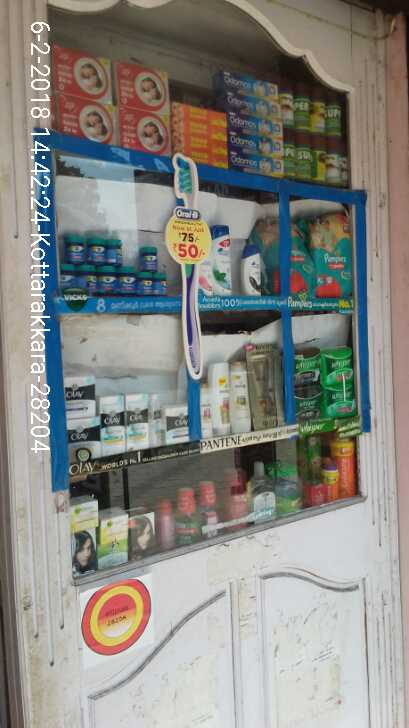vicks: (62, 229, 170, 297)
